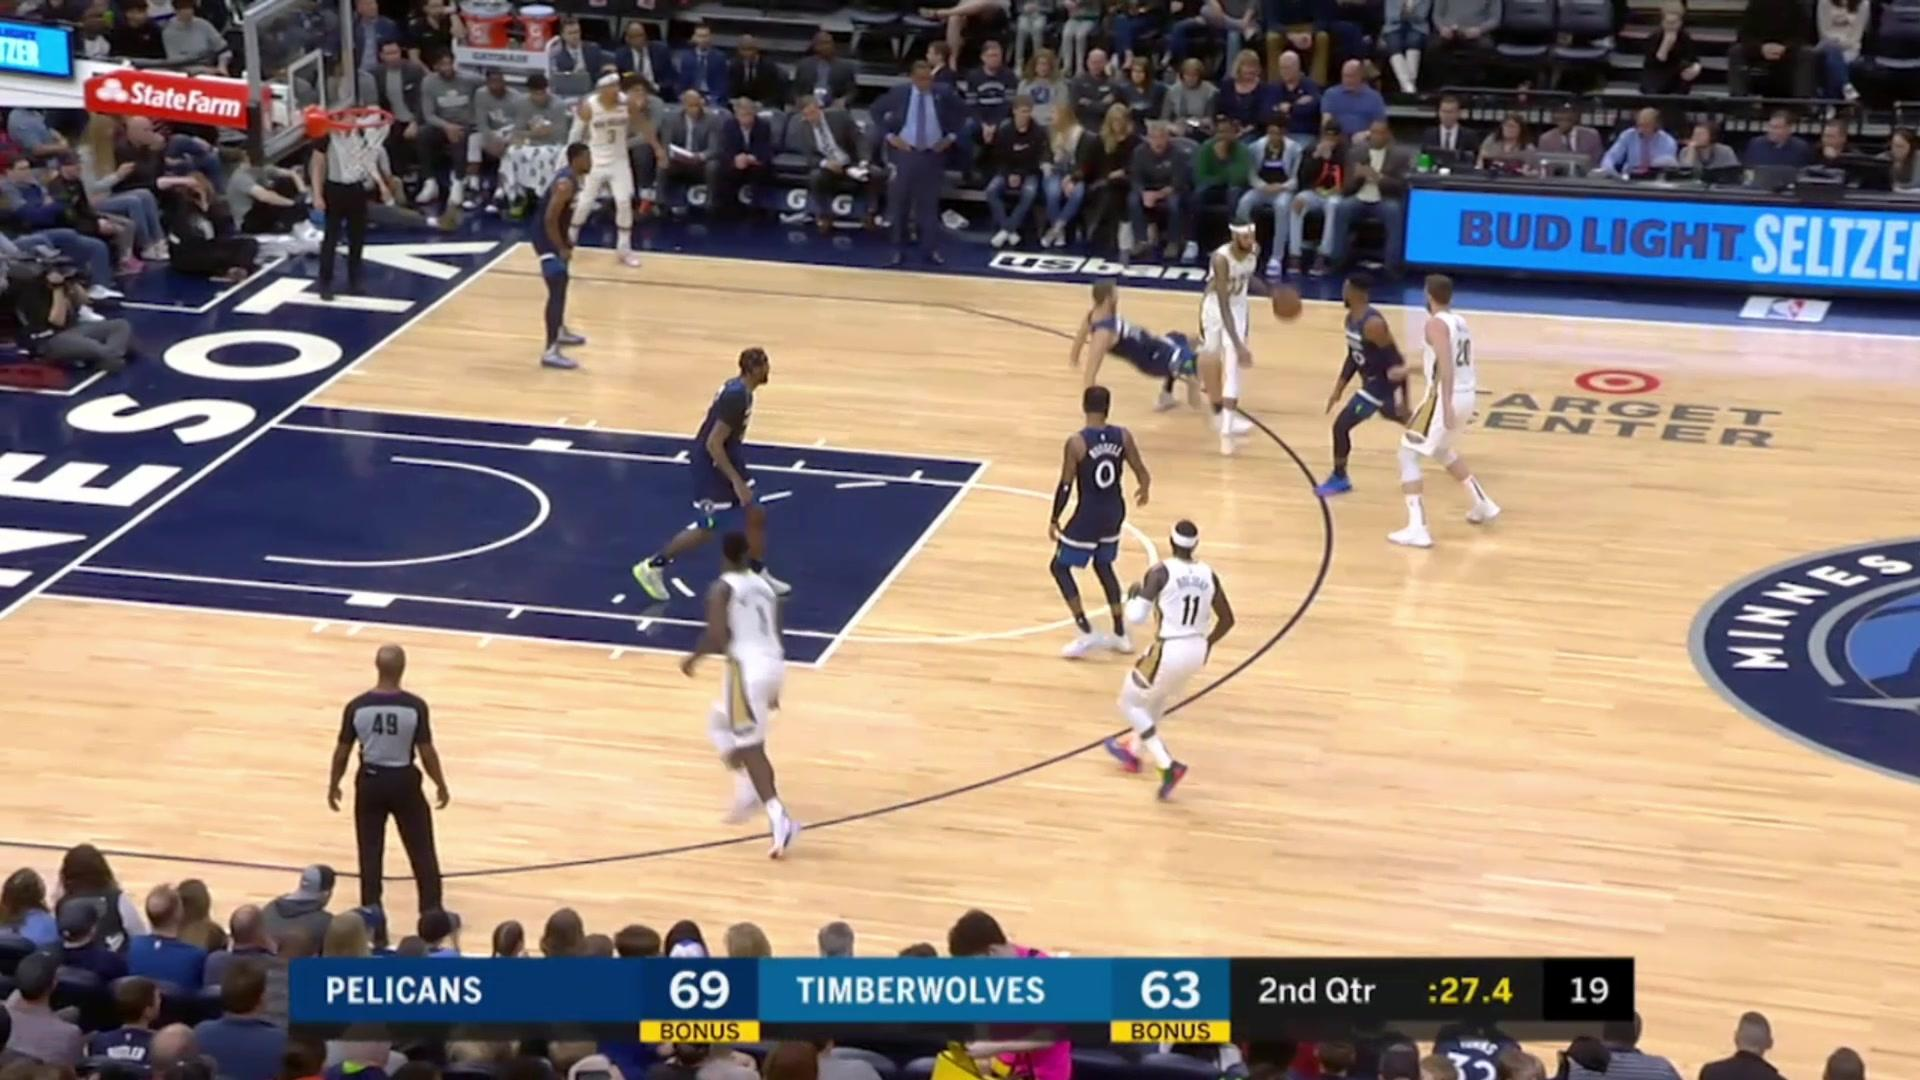no_foul: (1076, 222, 1266, 438)
